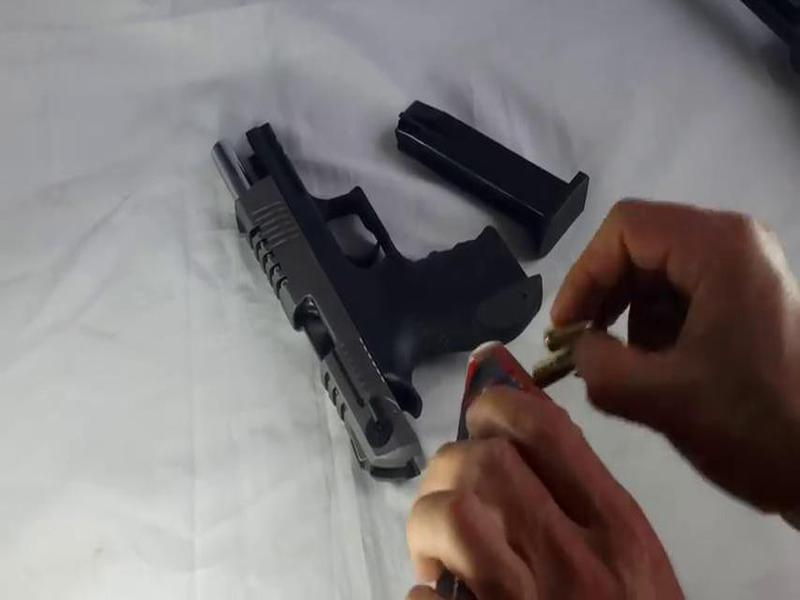Pistola: (206, 113, 557, 489)
